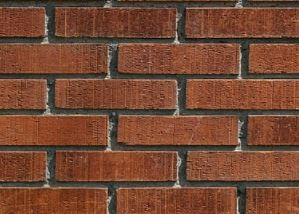brick: (54, 150, 181, 184), (51, 79, 179, 112), (114, 42, 241, 75), (115, 115, 242, 148), (52, 5, 179, 37), (183, 77, 299, 110), (1, 43, 113, 76), (184, 6, 299, 38), (1, 113, 109, 147), (186, 151, 299, 183), (113, 189, 239, 214), (1, 186, 109, 213), (245, 115, 299, 148), (246, 42, 299, 74), (1, 4, 49, 39), (1, 149, 50, 182), (1, 76, 48, 110), (245, 187, 297, 214)
